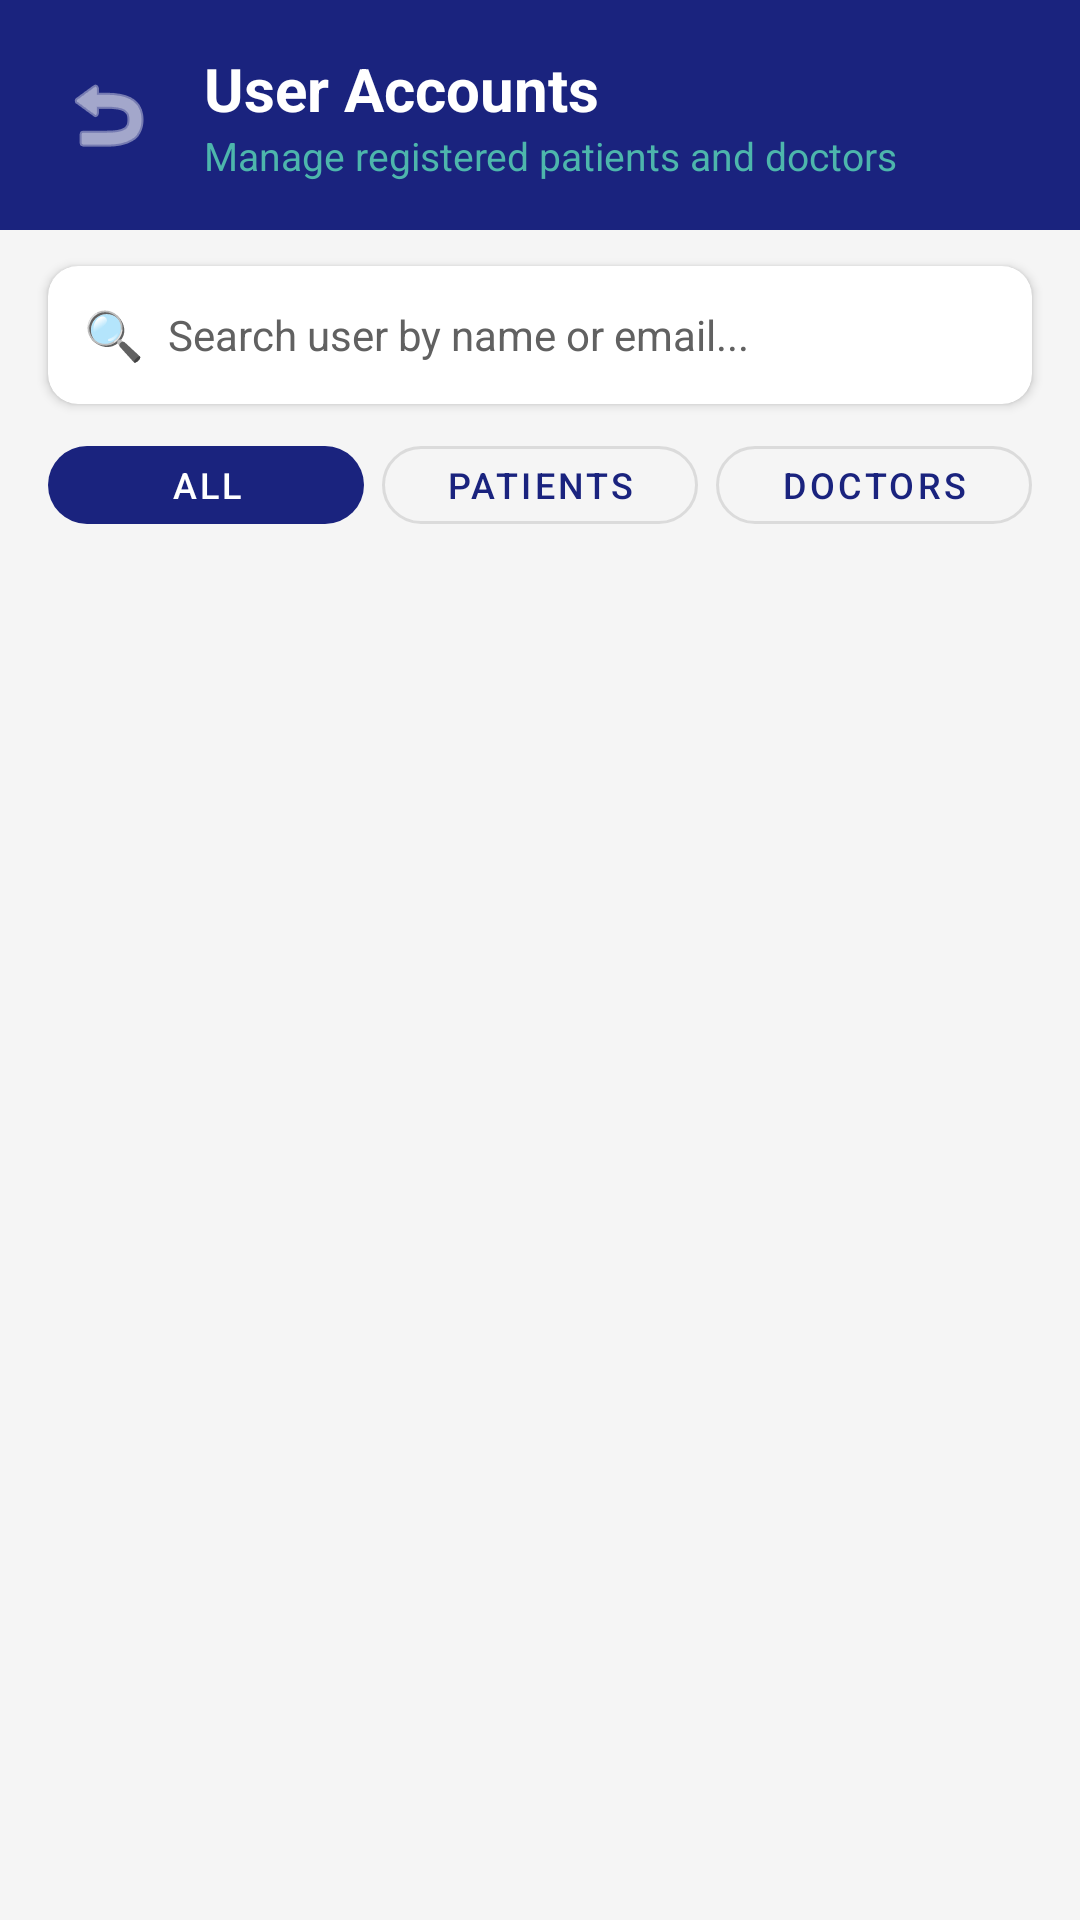

Locate icon controls on the screen. Image size 1080×1920, boxes as (x1, y1, x2, y2).
Back: (75, 84, 144, 147)
